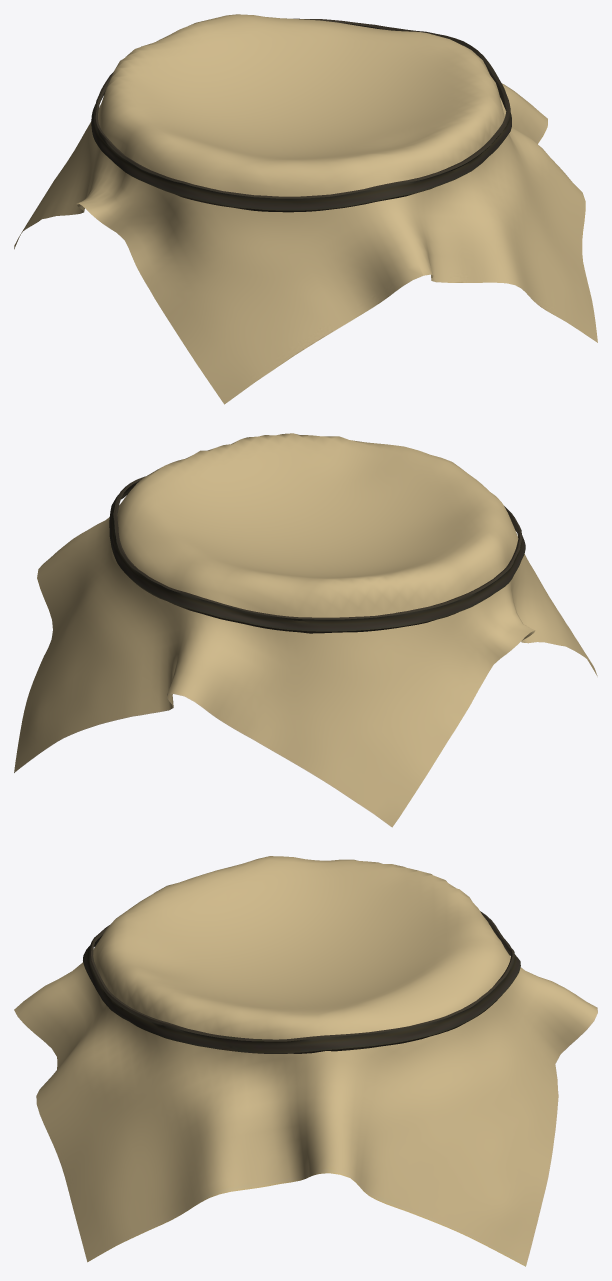
Rendered from Yaktanggi_fabric.fbx.
The picture shows the model from 3 angles, top to bottom: view 1: azimuth 30°, elevation 25°; view 2: azimuth 150°, elevation 25°; view 3: azimuth 270°, elevation 25°; orthographic projection. The views are drawn at different scales.
Parts seen in each view (by area): view 1: 천_1; view 2: 천_1; view 3: 천_1.
Boxes of the visible parts, x1=… form: 천_1: x1=14, y1=14, x2=597, y2=404; 천_1: x1=14, y1=433, x2=597, y2=827; 천_1: x1=14, y1=856, x2=597, y2=1266.
Bounding box in the file's own units: 436 × 206 × 453.
1 material, 1 textured.
